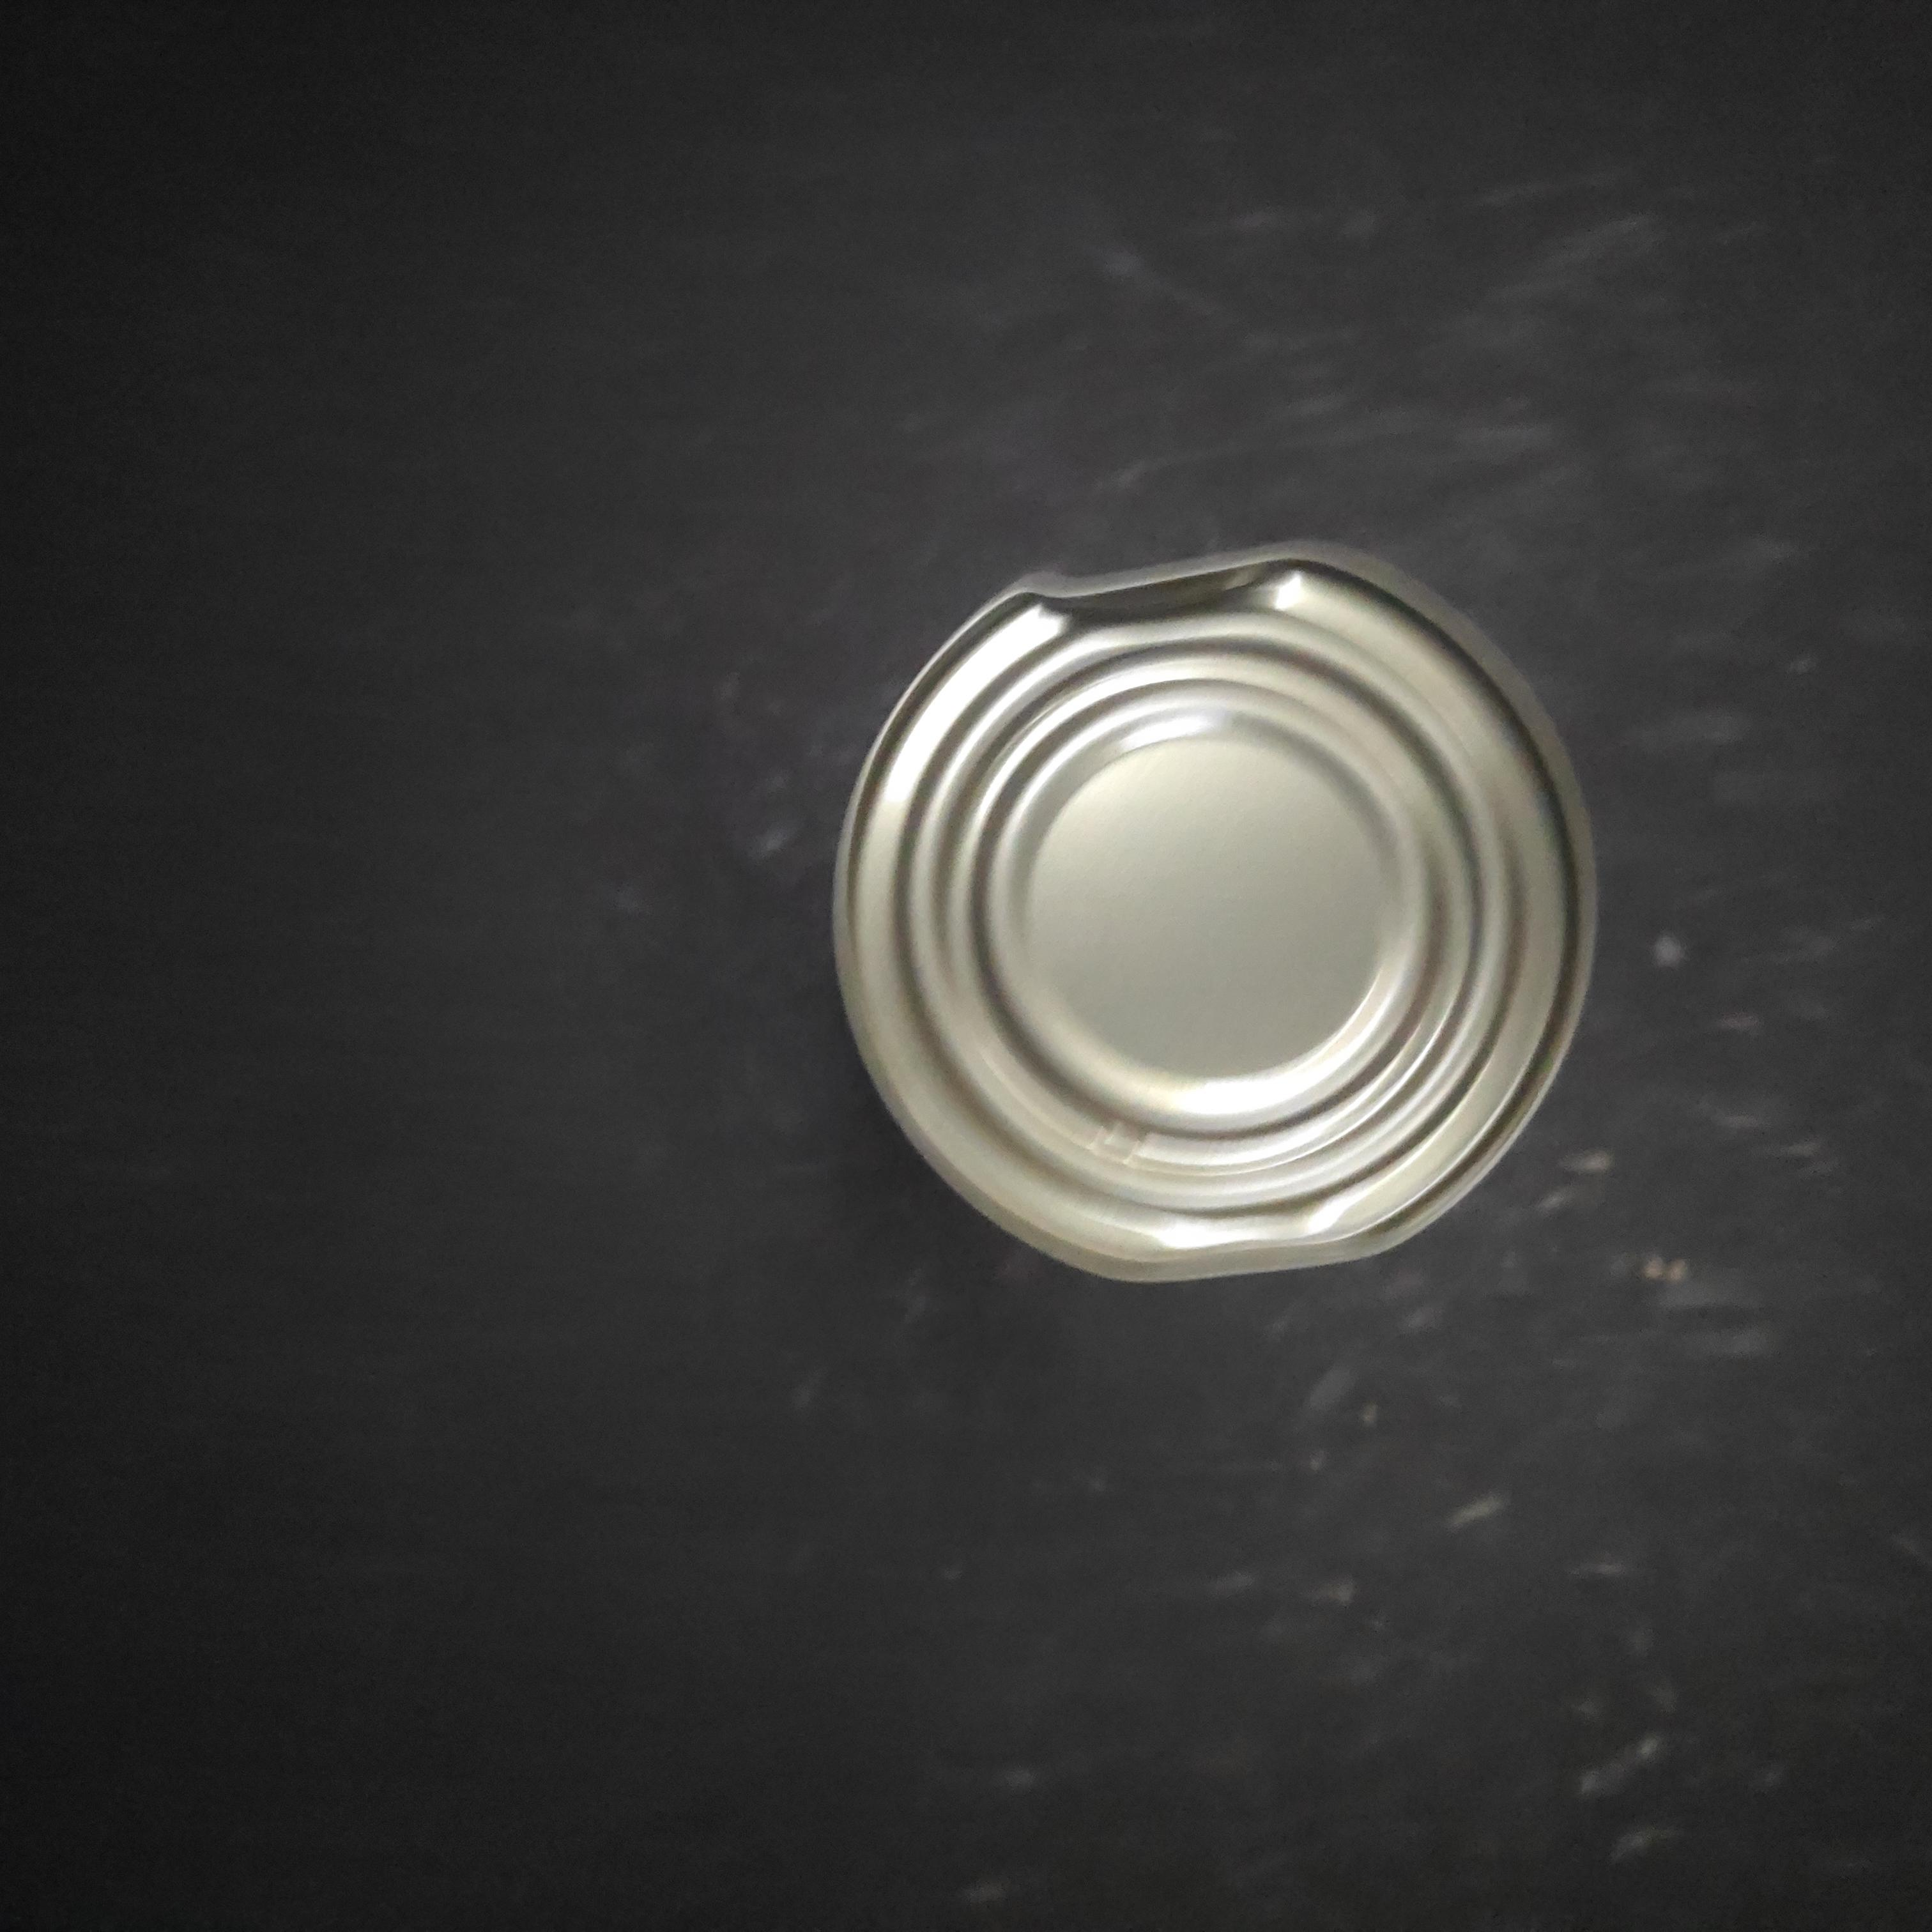Minor Defect: (314, 630, 1117, 1402)
